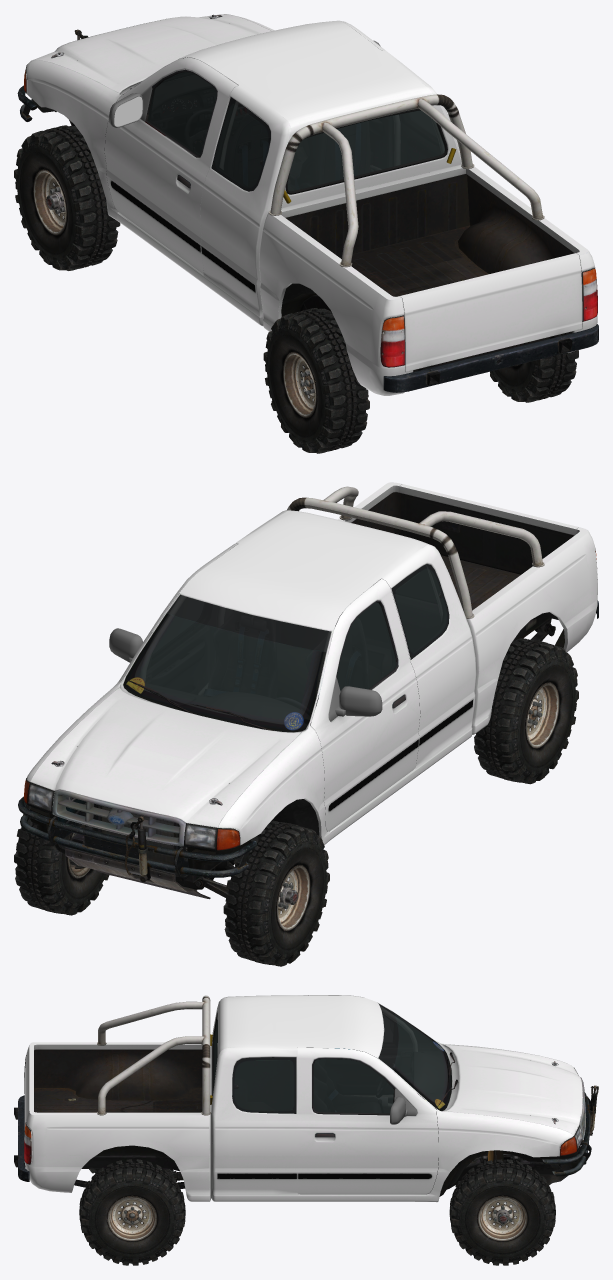
File: ford_ranger_offroad.glb
3 views of the same model, one above another, from view 1: azimuth 30°, elevation 25°; view 2: azimuth 150°, elevation 25°; view 3: azimuth 270°, elevation 25° (orthographic). The views are drawn at different scales.
Visible parts, largest first — view 1: chassis, frame, door_lf, boot_ok, wheel_lb.002, wheel_lf.001, glass, bonnet, rollcage.001, bumper_rear, glass_lf, wheel_rb.001 (+3 smaller); view 2: chassis, bonnet, windscreen_ok.001, door_lf, wheel_lf.001, wheel_lb.002, frame, boot_ok, bumper_front_ok, wheel_rf.001, rollcage.001, glass (+7 smaller); view 3: chassis, door_rf, frame, wheel_rb.001, wheel_rf.001, bonnet, windscreen_ok.001, glass_rf, glass, rollcage.001, bumper_front_ok, interior (+4 smaller).
Boxes of the visible parts, x1=… form: chassis: x1=26, y1=14, x2=597, y2=395; frame: x1=32, y1=99, x2=574, y2=391; door_lf: x1=104, y1=57, x2=238, y2=273; boot_ok: x1=399, y1=253, x2=582, y2=371; wheel_lb.002: x1=263, y1=308, x2=369, y2=453; wheel_lf.001: x1=14, y1=125, x2=120, y2=270; glass: x1=211, y1=97, x2=444, y2=191; bonnet: x1=33, y1=14, x2=271, y2=93; rollcage.001: x1=221, y1=94, x2=544, y2=267; bumper_rear: x1=383, y1=324, x2=598, y2=392; glass_lf: x1=152, y1=72, x2=216, y2=155; wheel_rb.001: x1=490, y1=350, x2=578, y2=402; chassis: x1=26, y1=482, x2=597, y2=844; bonnet: x1=30, y1=687, x2=301, y2=827; windscreen_ok.001: x1=123, y1=594, x2=331, y2=732; door_lf: x1=310, y1=578, x2=420, y2=831; wheel_lf.001: x1=223, y1=820, x2=329, y2=966; wheel_lb.002: x1=474, y1=638, x2=578, y2=784; frame: x1=30, y1=492, x2=564, y2=899; boot_ok: x1=399, y1=484, x2=578, y2=574; bumper_front_ok: x1=18, y1=796, x2=256, y2=882; wheel_rf.001: x1=14, y1=806, x2=109, y2=915; rollcage.001: x1=140, y1=486, x2=544, y2=694; glass: x1=391, y1=564, x2=449, y2=659; chassis: x1=24, y1=995, x2=573, y2=1202; door_rf: x1=297, y1=1047, x2=438, y2=1194; frame: x1=14, y1=1049, x2=581, y2=1196; wheel_rb.001: x1=79, y1=1159, x2=185, y2=1265; wheel_rf.001: x1=449, y1=1159, x2=555, y2=1265; bonnet: x1=445, y1=1045, x2=582, y2=1135; windscreen_ok.001: x1=378, y1=1003, x2=451, y2=1111; glass_rf: x1=313, y1=1059, x2=393, y2=1113; glass: x1=213, y1=1017, x2=296, y2=1113; rollcage.001: x1=97, y1=995, x2=416, y2=1115; bumper_front_ok: x1=530, y1=1085, x2=598, y2=1176; interior: x1=215, y1=1011, x2=450, y2=1112.
Size of the model in its own units: 2.23 by 2.16 by 5.61.
44 materials, 37 textured.
